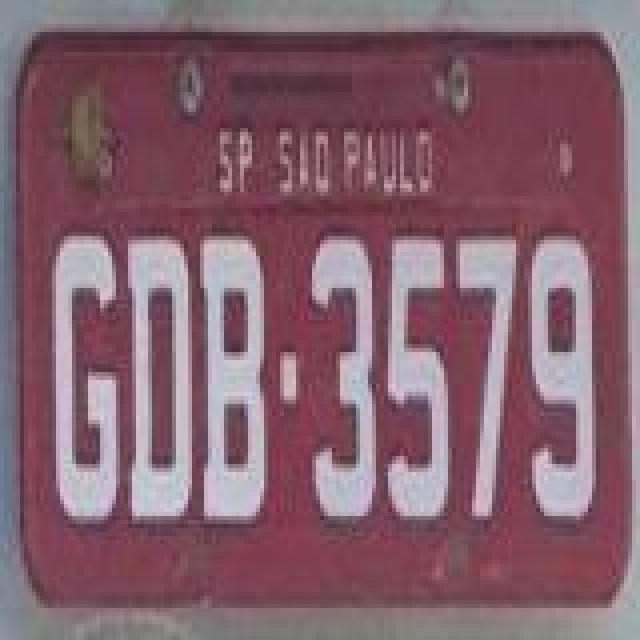3: (308, 230, 380, 530)
5: (382, 230, 450, 530)
7: (456, 226, 520, 526)
9: (528, 230, 600, 530)
B: (196, 230, 268, 530)
D: (124, 234, 196, 534)
G: (52, 226, 124, 534)
